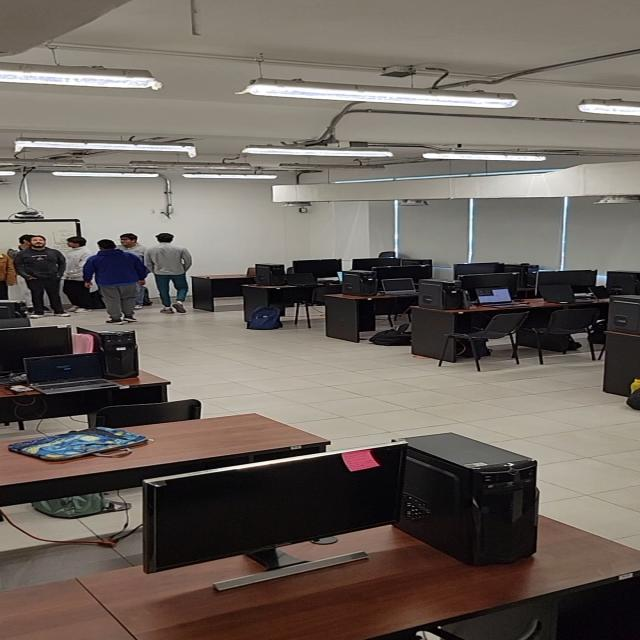Persona: (87, 237, 143, 324), (12, 235, 66, 320), (149, 230, 191, 316), (62, 234, 88, 312)
